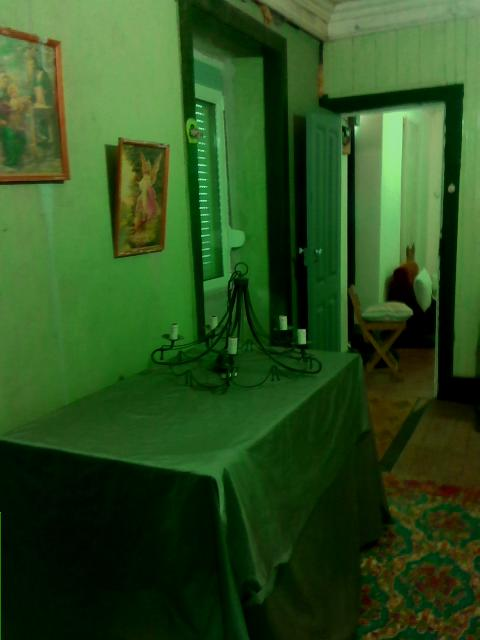open_door: (310, 80, 465, 402)
